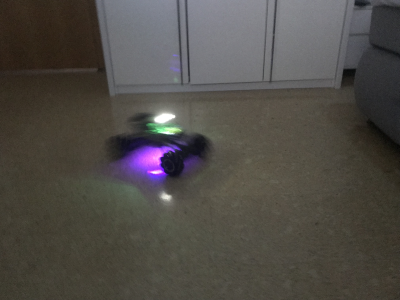remote control car: (103, 109, 208, 179)
